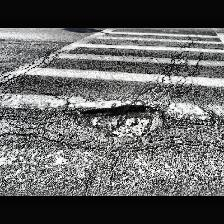pothole: (76, 103, 174, 139)
